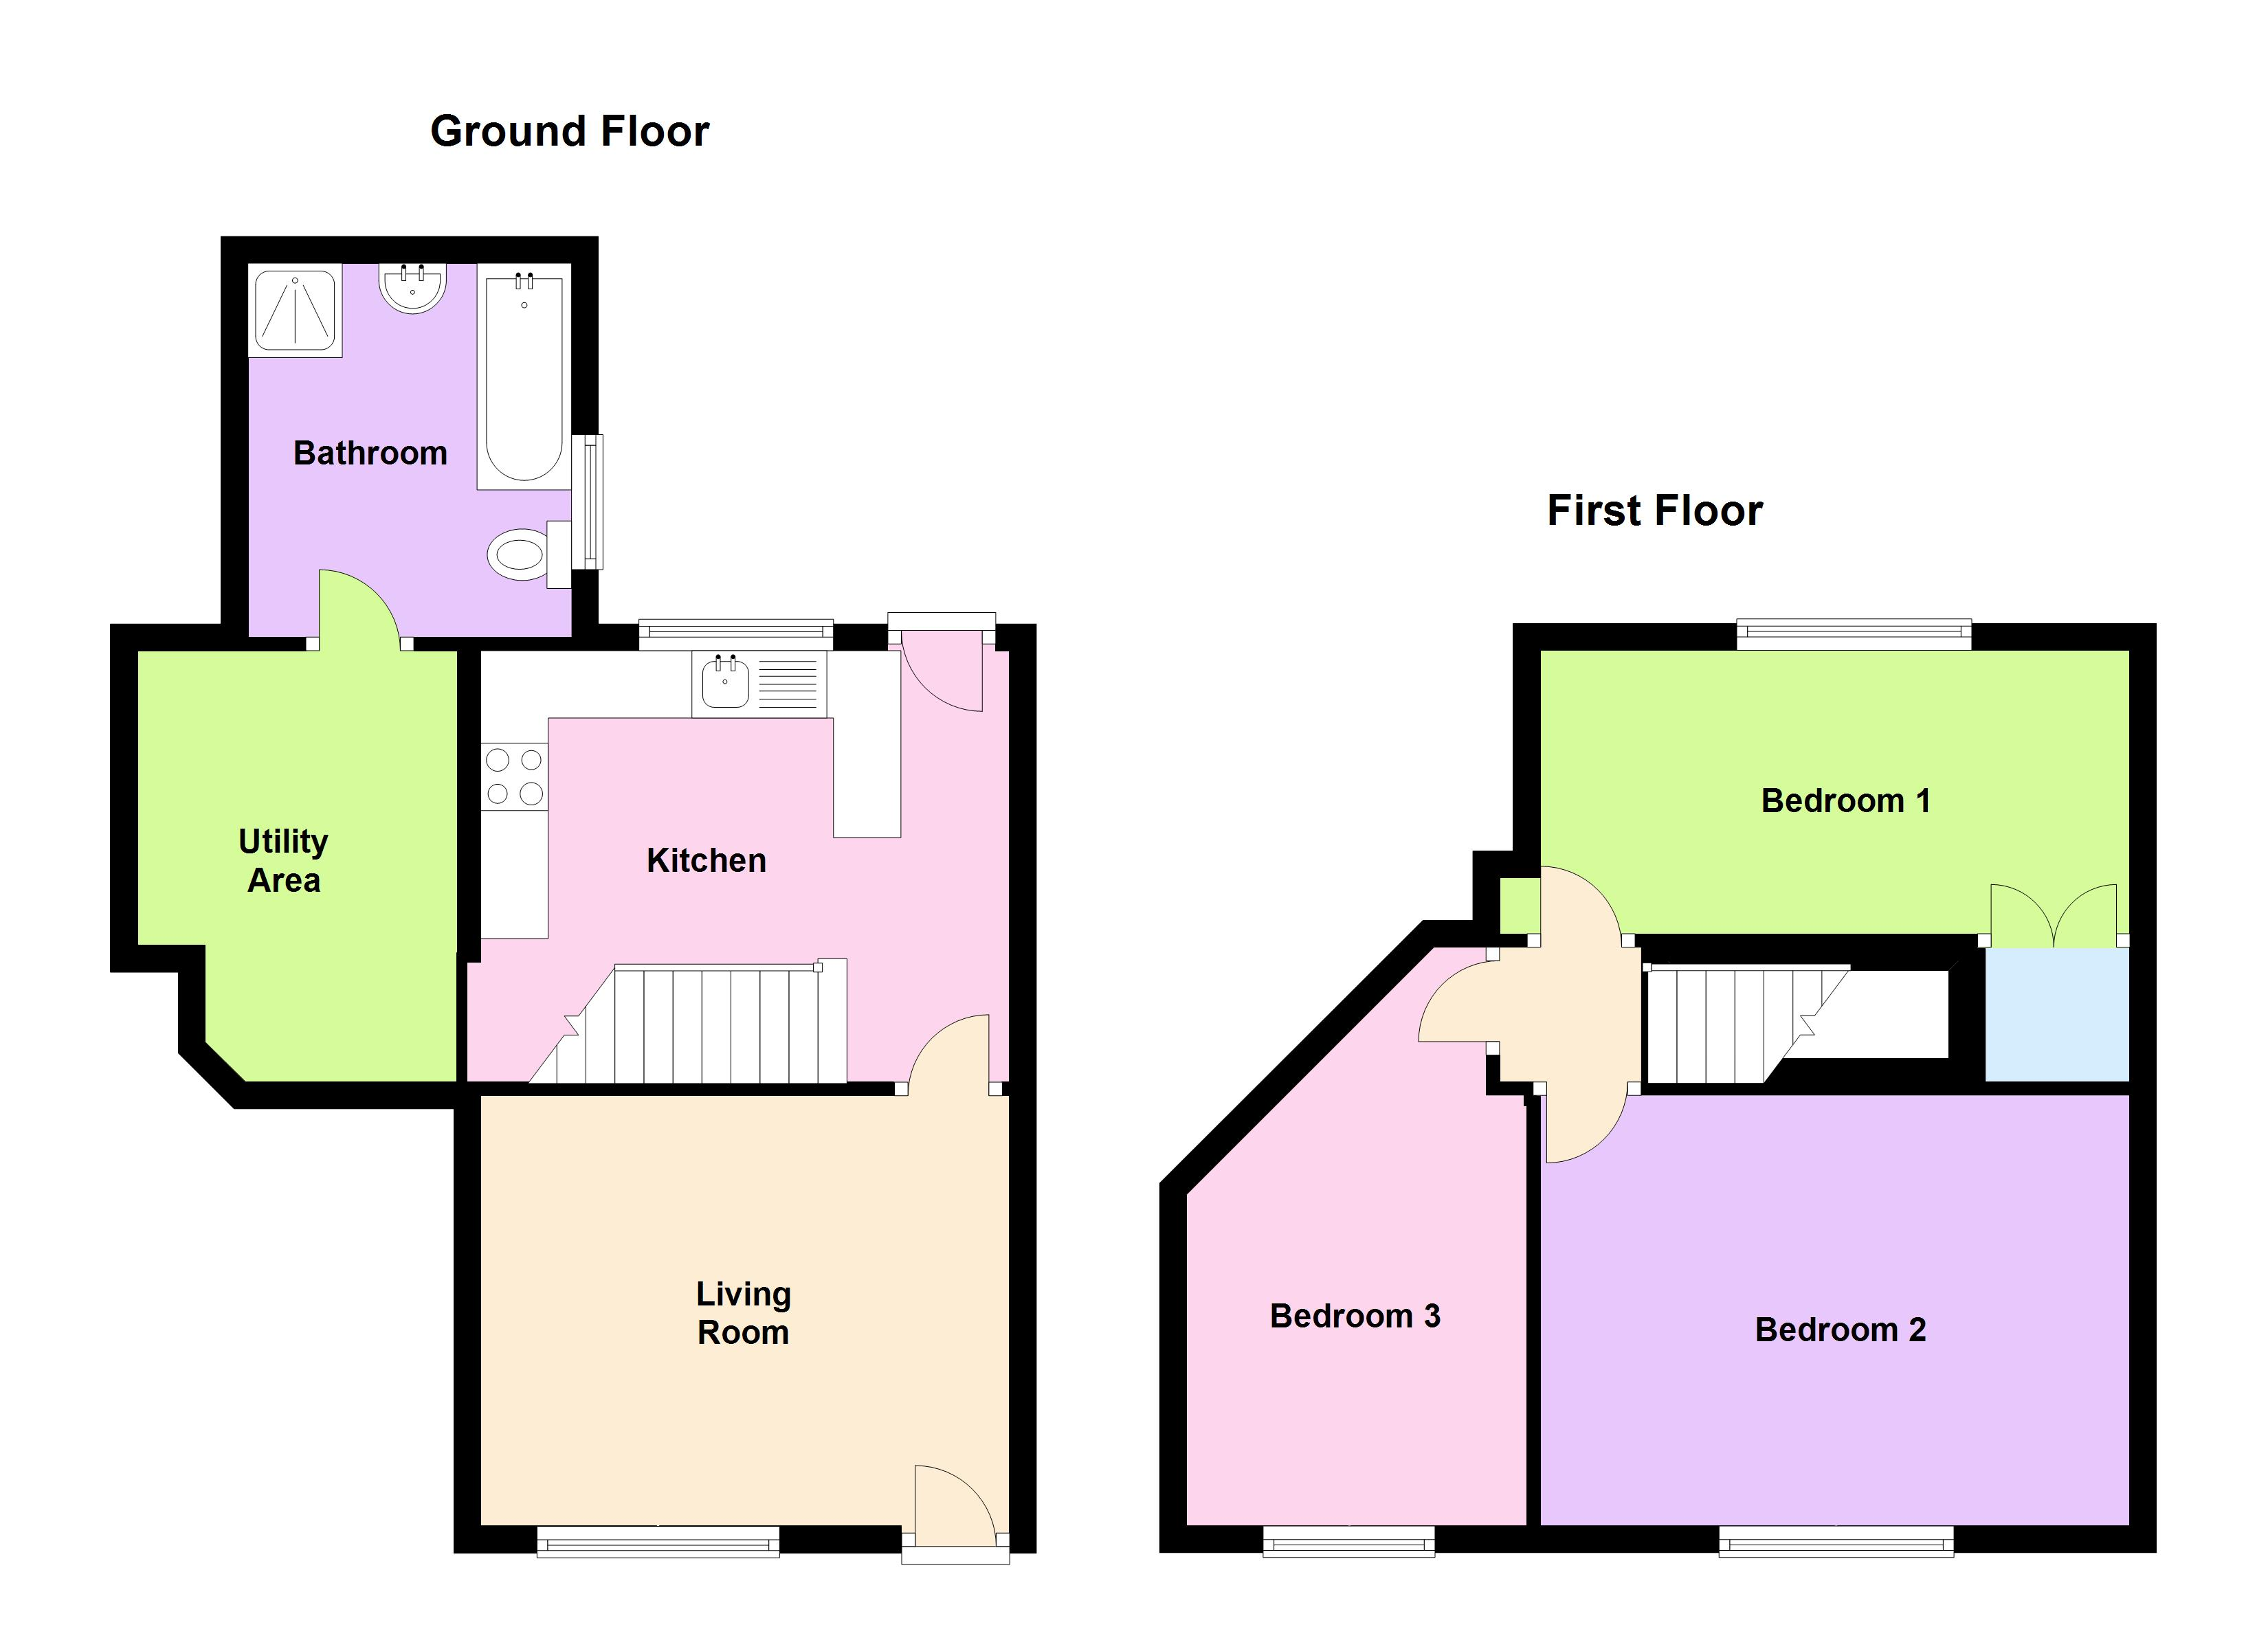door: (1990, 878, 2118, 949), (902, 1008, 993, 1079), (909, 1461, 997, 1533), (902, 644, 990, 716), (1537, 862, 1622, 934), (1543, 1095, 1622, 1169), (310, 563, 391, 634), (1414, 971, 1483, 1044)
